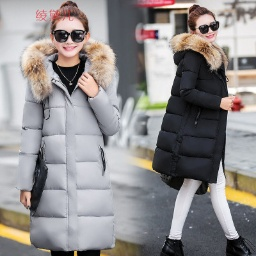face: (47, 1, 89, 58), (183, 3, 222, 41)
